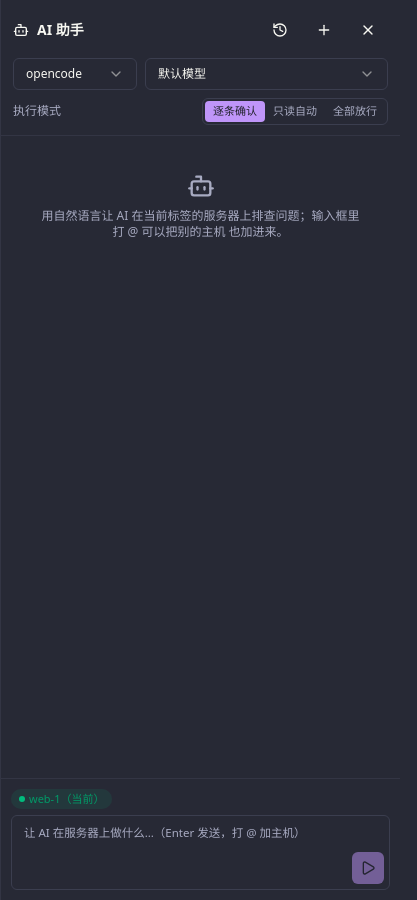
Test: AI 文字按 Markdown 排版 › 流式输出：已经写完的消息不重新解析，只有正在写的那条每帧重画
Click the button titled "新对话" at (324, 30), box [304,10,344,50]
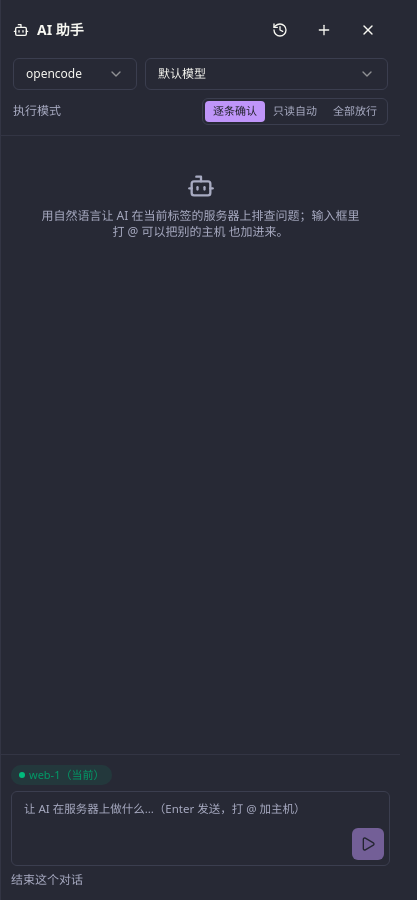
Type "看看" into the text box with placeholder "让 AI 在服务器上做什么…（Enter 发送，打 @ 加主机）" at (200, 828), box [11,791,390,866]
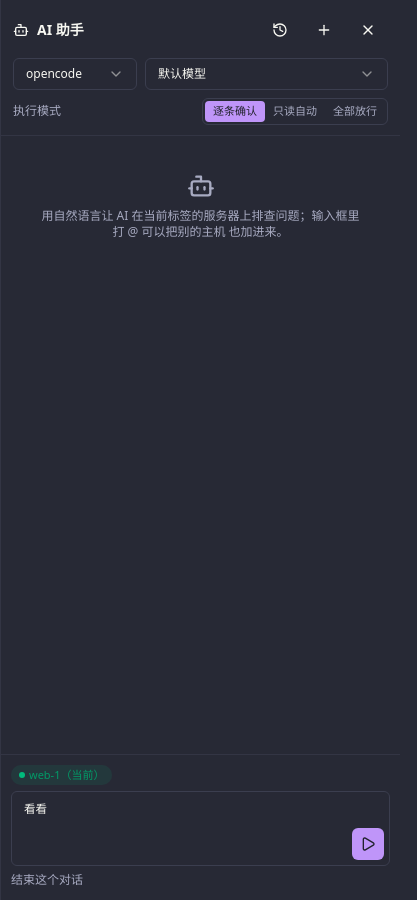
Click the button titled "发送" at (368, 844), box [352,828,384,860]
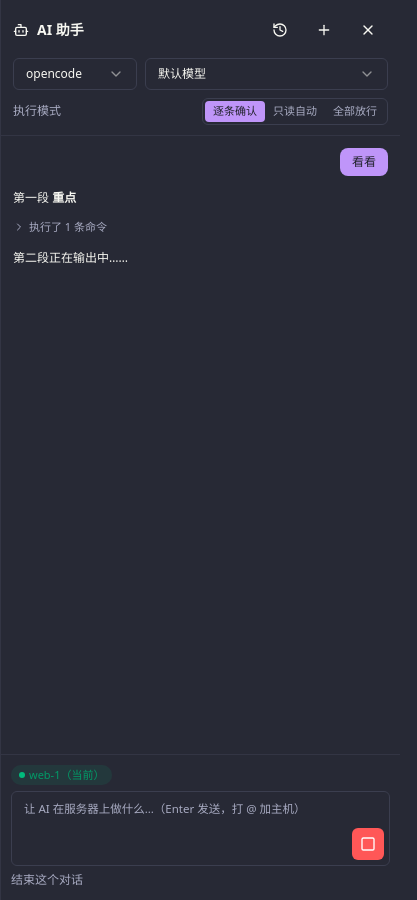
Now the text "第一段" is shown, box [13,188,52,206]
Now the text "第二" is shown, box [13,248,128,266]
